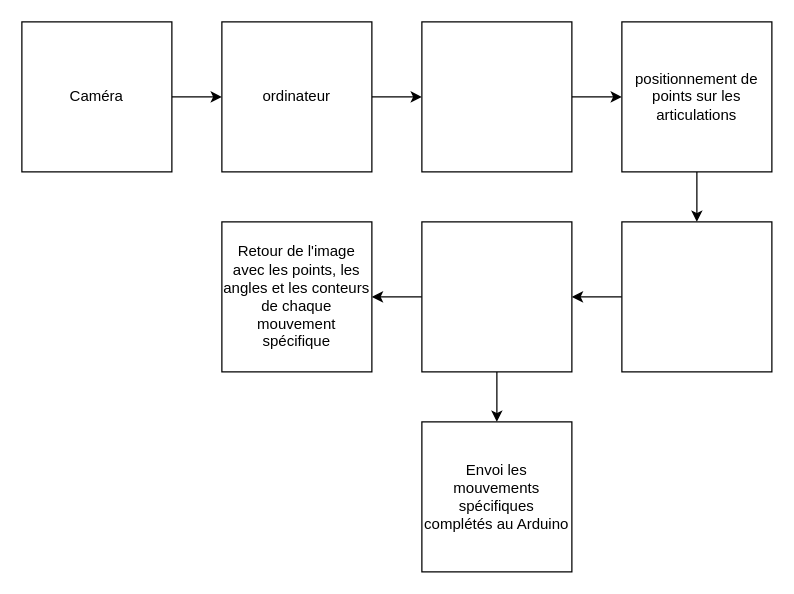
The diagram is 794 pixels wide and 594 high, and some of its shapes have lost their labels. Each missing label, with the centre of its shape:
"Calculs des angles entres les membres formés par les points" goes at [696,296].
"Détection de mouvements spécifiques" goes at [496,296].
"transformation de l'image" goes at [496,96].
